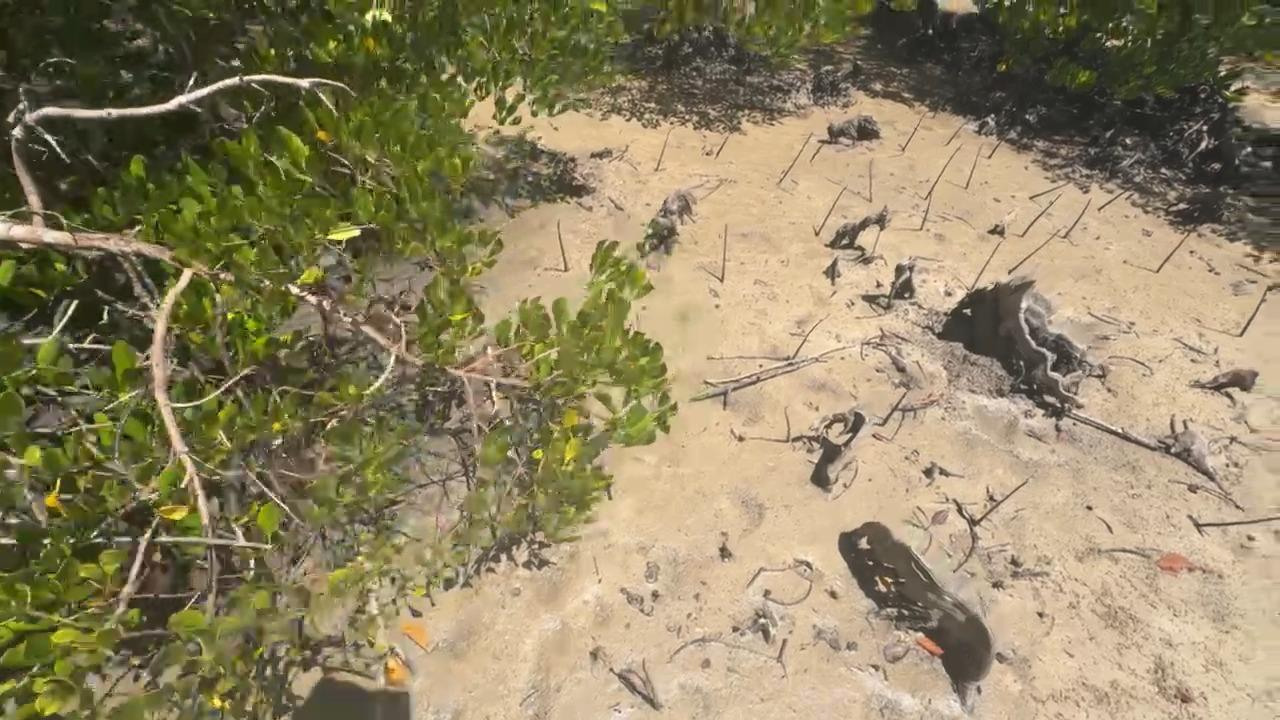Tree: (974, 479, 1029, 527), (1009, 229, 1060, 274), (924, 146, 961, 199), (1021, 192, 1064, 236), (970, 239, 1003, 292), (779, 132, 812, 183), (815, 187, 846, 237), (1157, 229, 1191, 273), (792, 319, 825, 361), (1240, 287, 1267, 338), (1098, 182, 1138, 211), (642, 658, 663, 712), (1063, 199, 1091, 239), (902, 110, 930, 150), (881, 390, 909, 426), (964, 143, 984, 190), (1196, 516, 1280, 527), (1029, 180, 1071, 200), (655, 128, 673, 170), (557, 219, 570, 271), (988, 129, 1009, 159), (945, 122, 968, 146), (920, 193, 932, 232), (721, 224, 728, 283), (715, 133, 730, 158), (810, 140, 824, 163), (932, 96, 943, 118), (784, 405, 790, 441), (869, 160, 873, 201)
